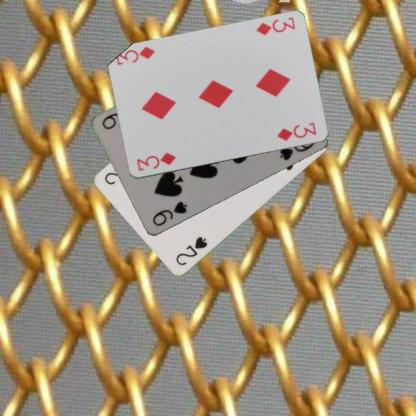2s: (173, 234, 208, 268)
3d: (134, 150, 178, 172), (253, 15, 296, 37)
9s: (150, 198, 188, 228)
